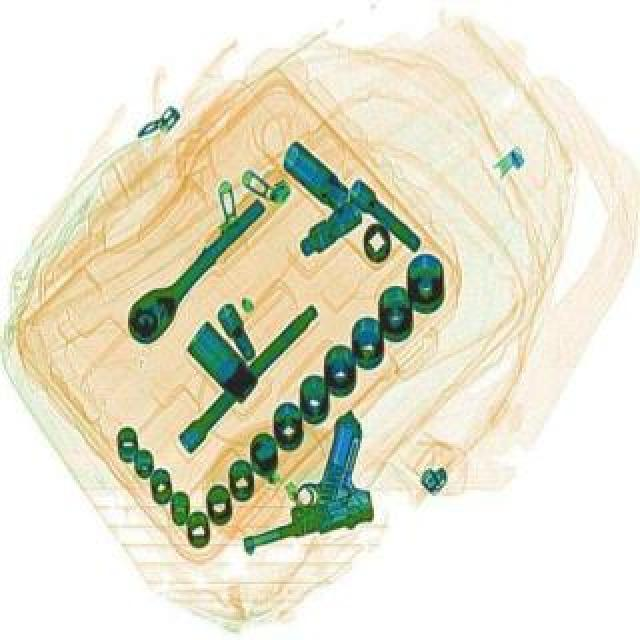gun: (210, 408, 388, 552)
